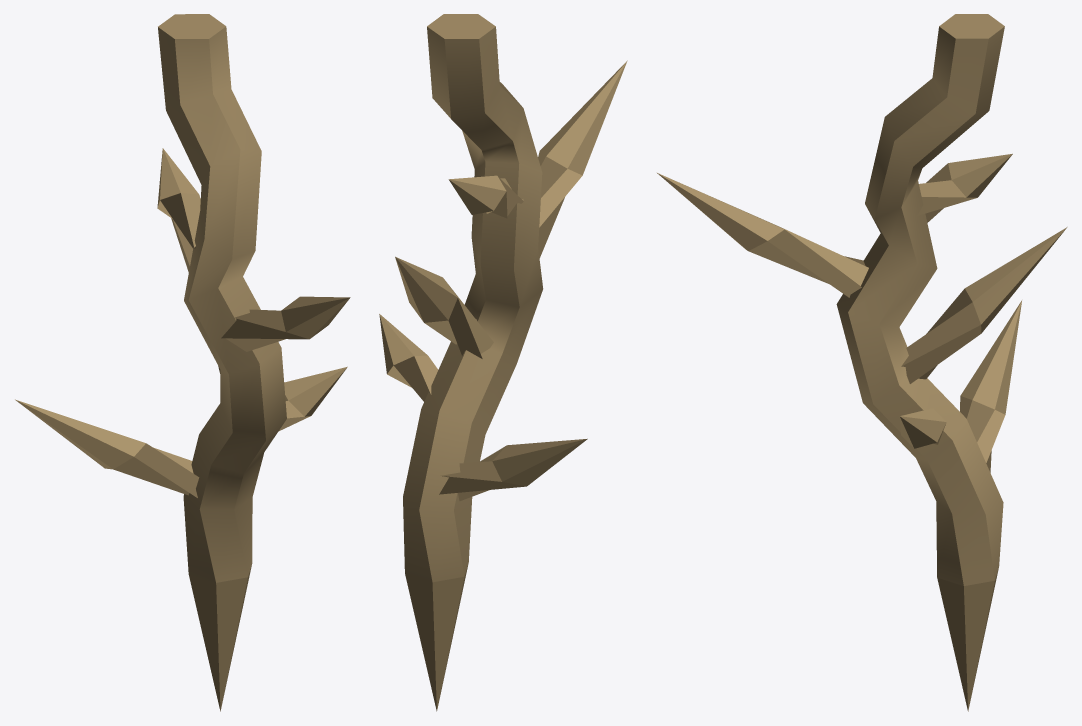
Rendered from Enredaderas muertas final.fbx.
3 views of the same model, side by side, from view 1: azimuth 30°, elevation 25°; view 2: azimuth 150°, elevation 25°; view 3: azimuth 270°, elevation 25° (orthographic). The views are drawn at different scales.
Visible parts, largest first — view 1: pCylinder21; view 2: pCylinder21; view 3: pCylinder21.
Part boxes in pixels (x1,y1,x2,y2): pCylinder21: (15, 14, 350, 711); pCylinder21: (379, 14, 627, 711); pCylinder21: (657, 14, 1067, 711).
Size of the model in its own units: 9.06 by 22.06 by 12.23.
